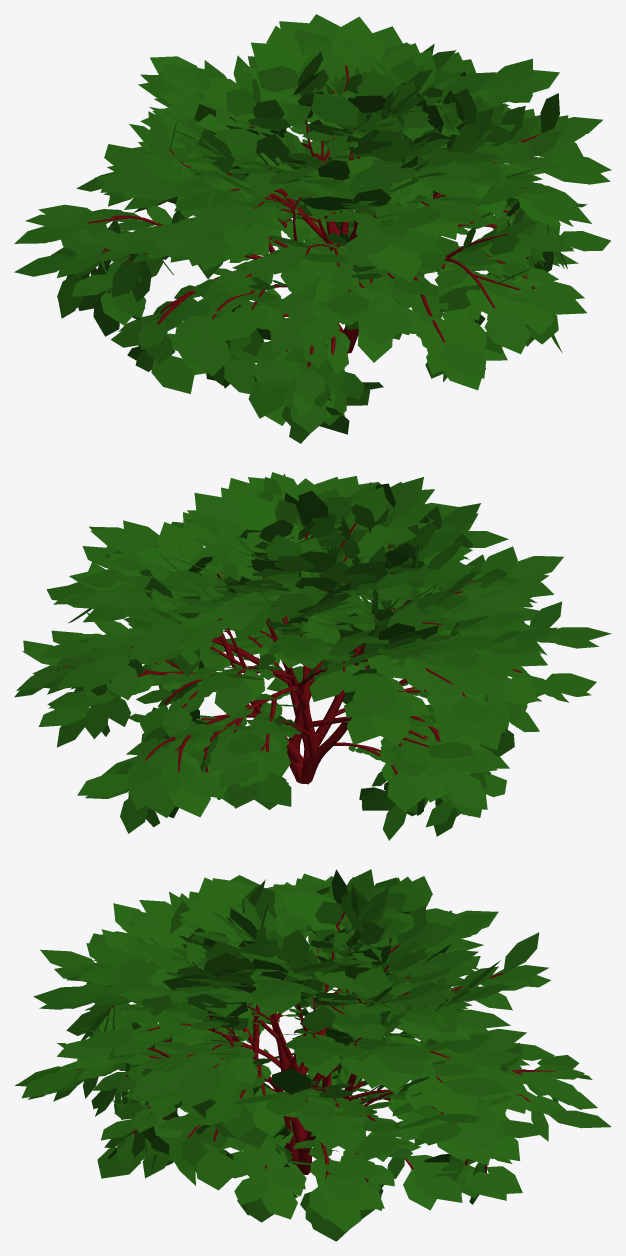
File: bush.fbx
3 views of the same model, one above another, from view 1: azimuth 30°, elevation 25°; view 2: azimuth 150°, elevation 25°; view 3: azimuth 270°, elevation 25° (orthographic). The views are drawn at different scales.
Parts seen in each view (by area): view 1: leaves, tree; view 2: leaves, tree; view 3: leaves, tree.
Part boxes in pixels (box(x1,y1,x2,y2)): leaves: box(14, 14, 611, 443); tree: box(87, 65, 539, 367); leaves: box(14, 472, 611, 840); tree: box(63, 523, 522, 784); leaves: box(15, 869, 611, 1241); tree: box(76, 912, 554, 1181).
Bounding box in the file's own units: 4.94 × 2.9 × 5.09.
